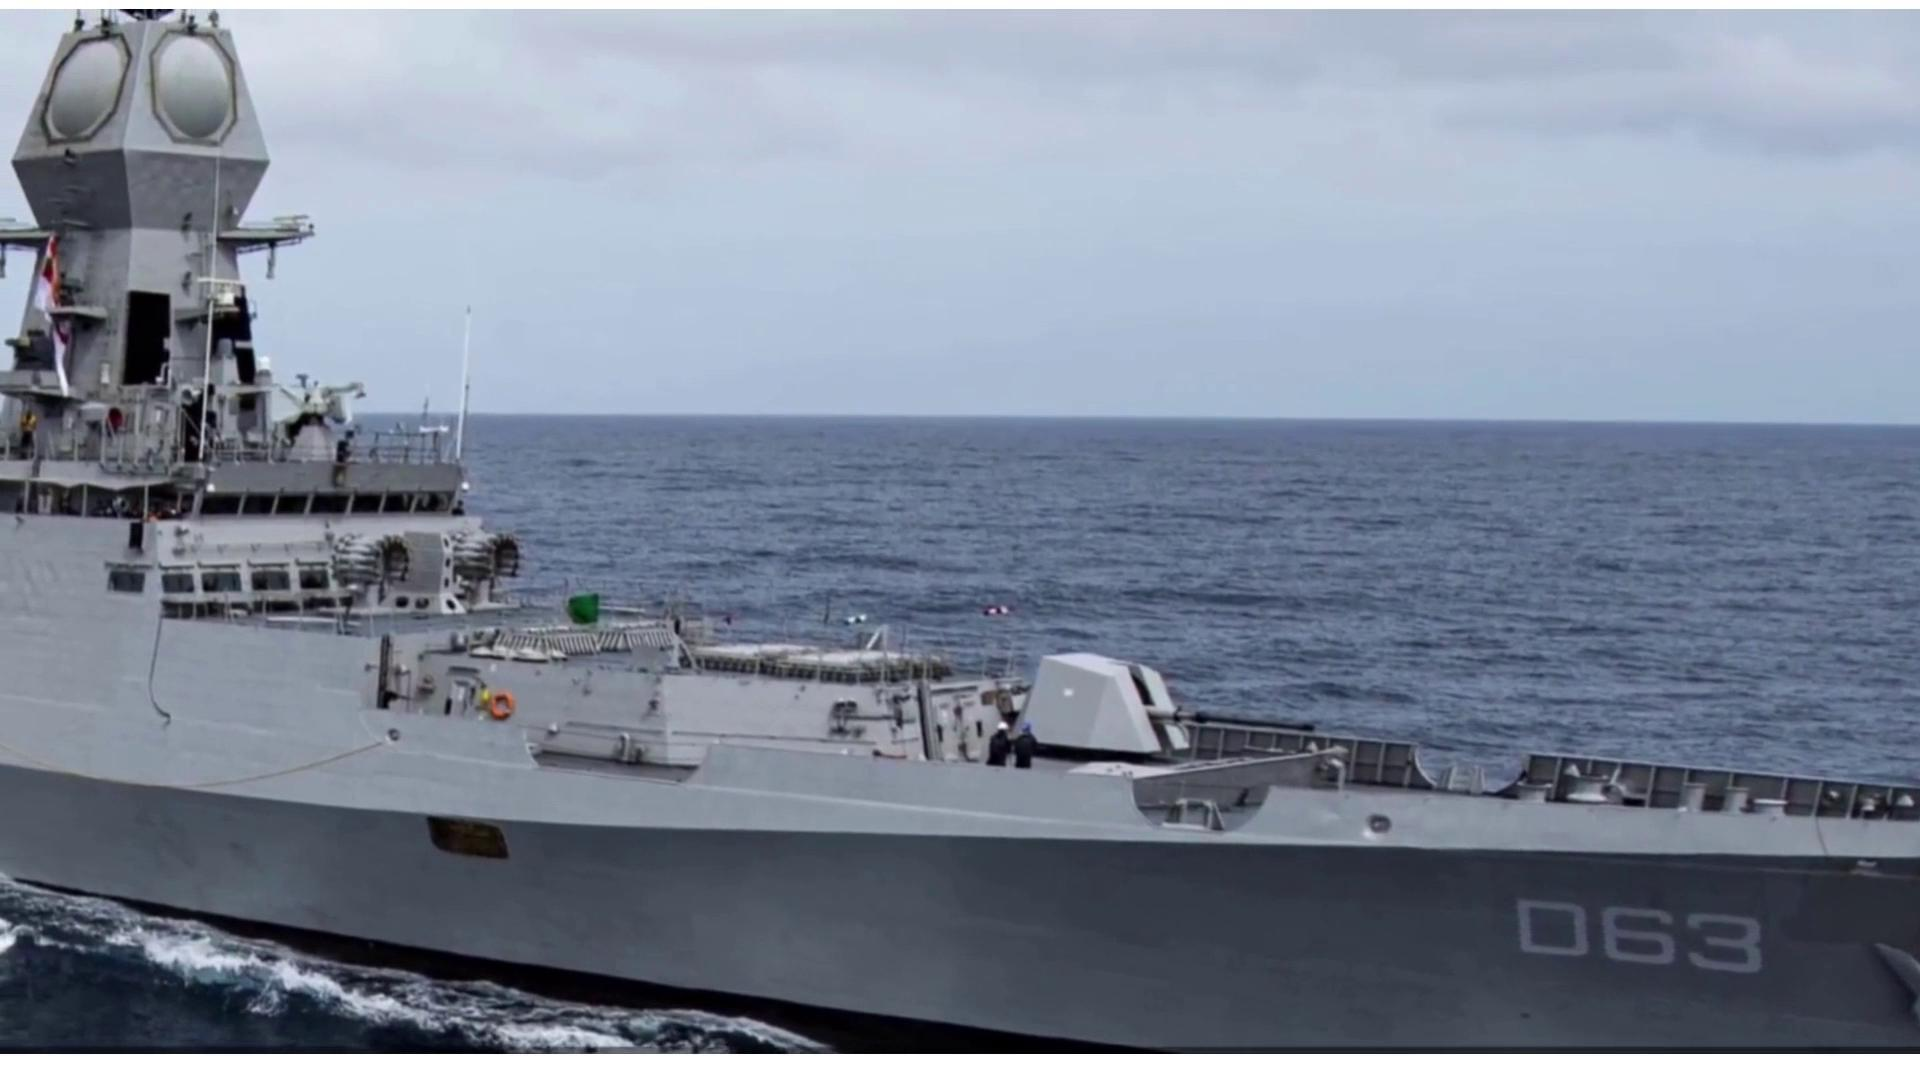OCR: (1502, 889, 1768, 985)
